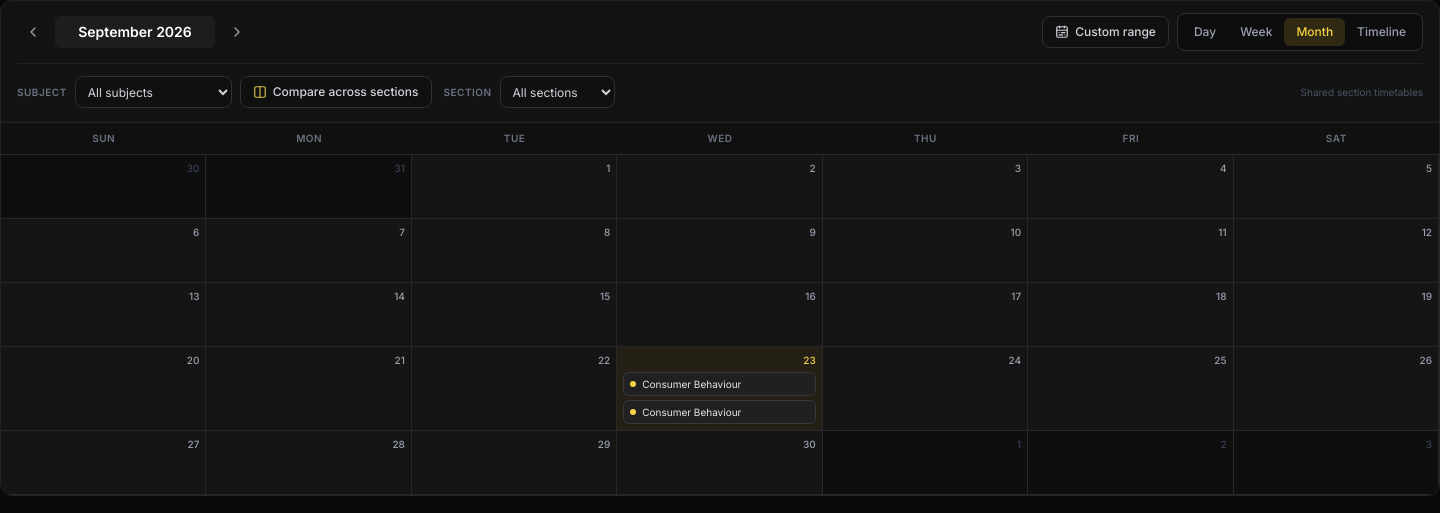
Test case: E2E Shared Academic Calendars: Frontend Test Suite › F13: Frontend Cross-Source Deduplication (AgendaList.tsx) › keeps Sections A and E separate, even when the user has personal events
Click the button "day". click: [1205, 32]
box: [1182, 18, 1228, 46]
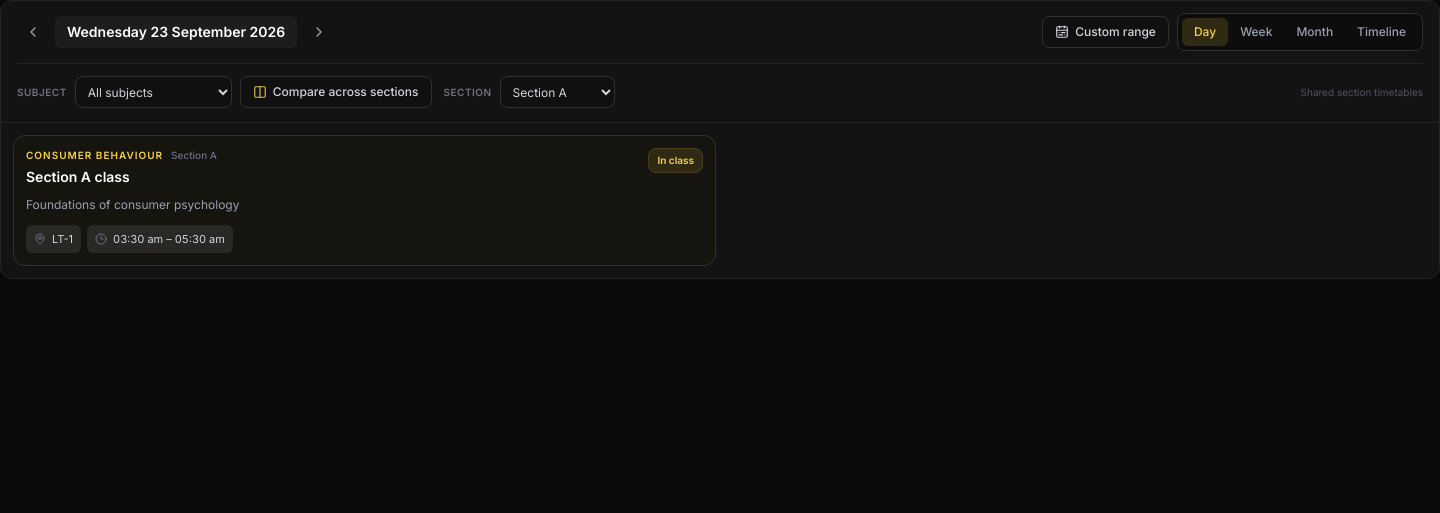
Expected: the text "Section E class" is not shown
Expected: the dropdown labelled "Section" shows "Section A"
Expected: the heading "Section A class" is shown, [26, 168, 130, 185]
Select "Section E" in the dropdown labelled "Section". click: [557, 92]
box: [500, 76, 615, 108]
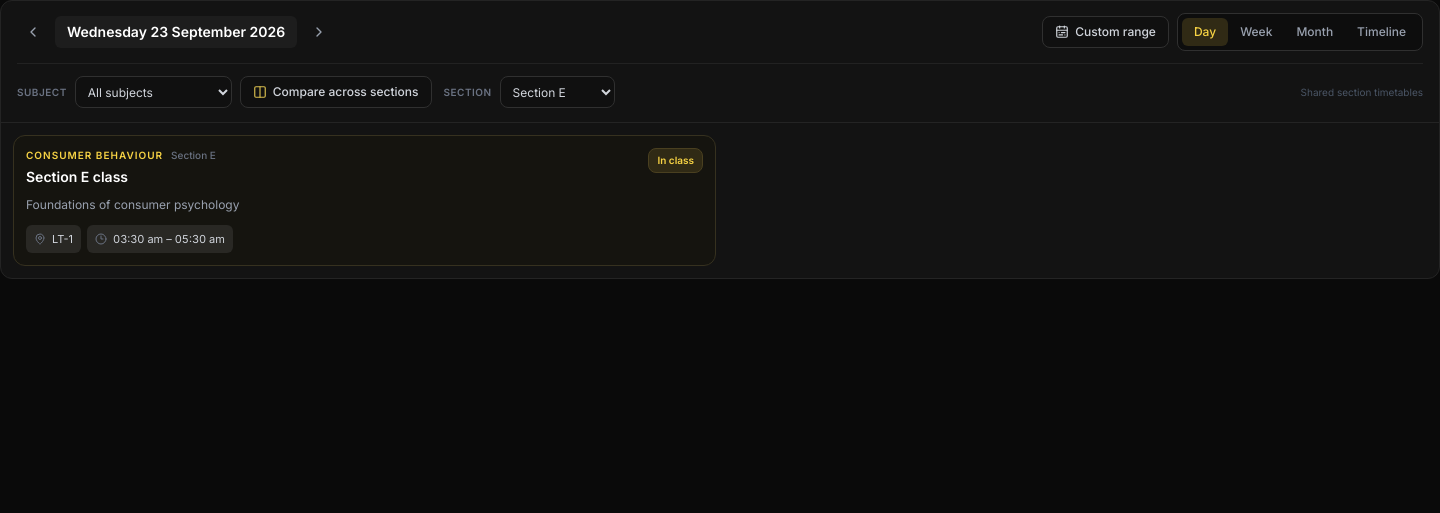
Expected: the text "Private appointment" is not shown
Expected: the heading "Section E class" is shown, [26, 168, 128, 185]
Expected: the heading "Section A class" is gone
Select "Personal only" in the dropdown labelled "Section". click: [557, 92]
box: [500, 76, 615, 108]
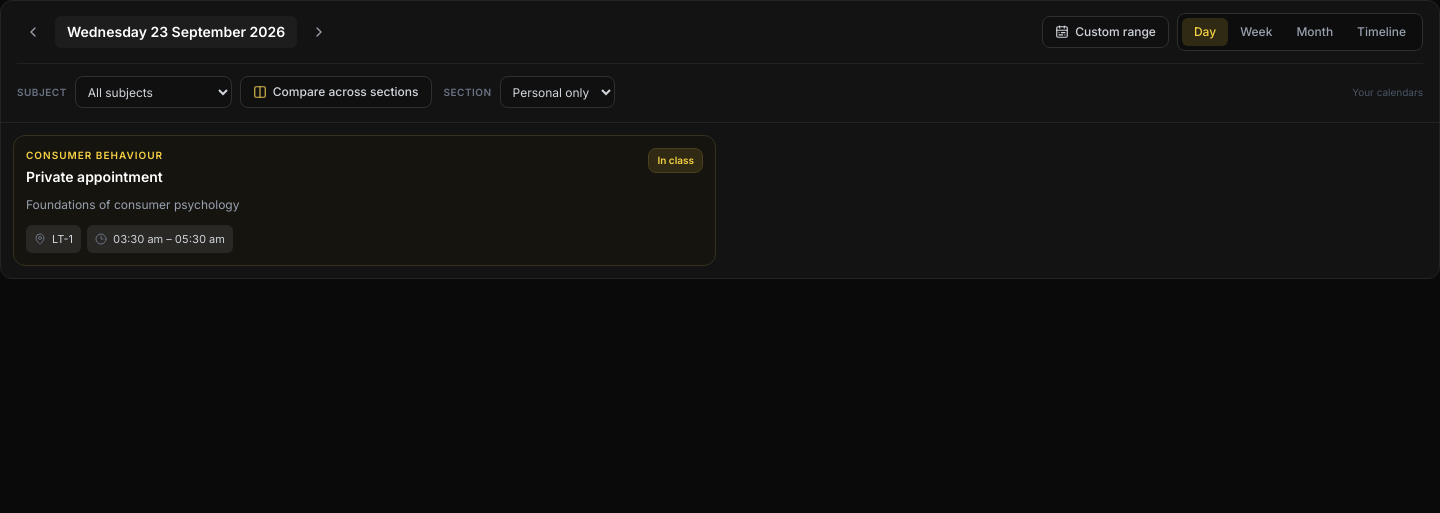
Expected: the heading "Section A class" is not shown
Expected: the heading "Private appointment" is shown, [26, 168, 163, 185]
Expected: the heading "Section E class" is gone
